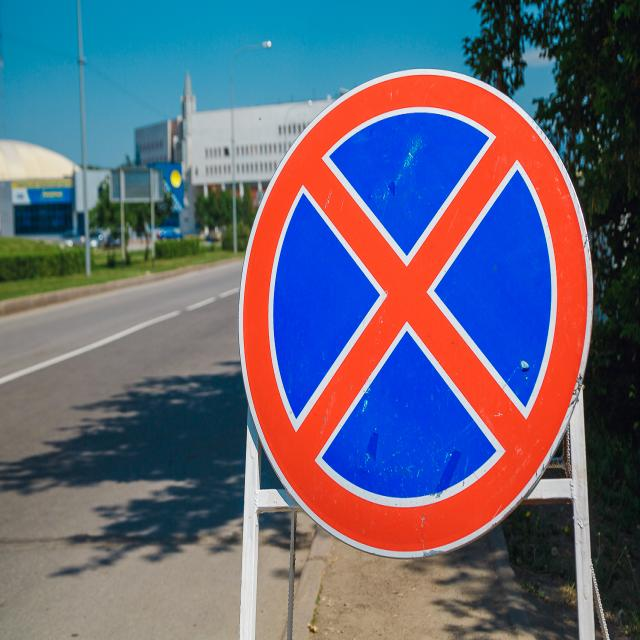no stopping: (238, 63, 598, 566)
